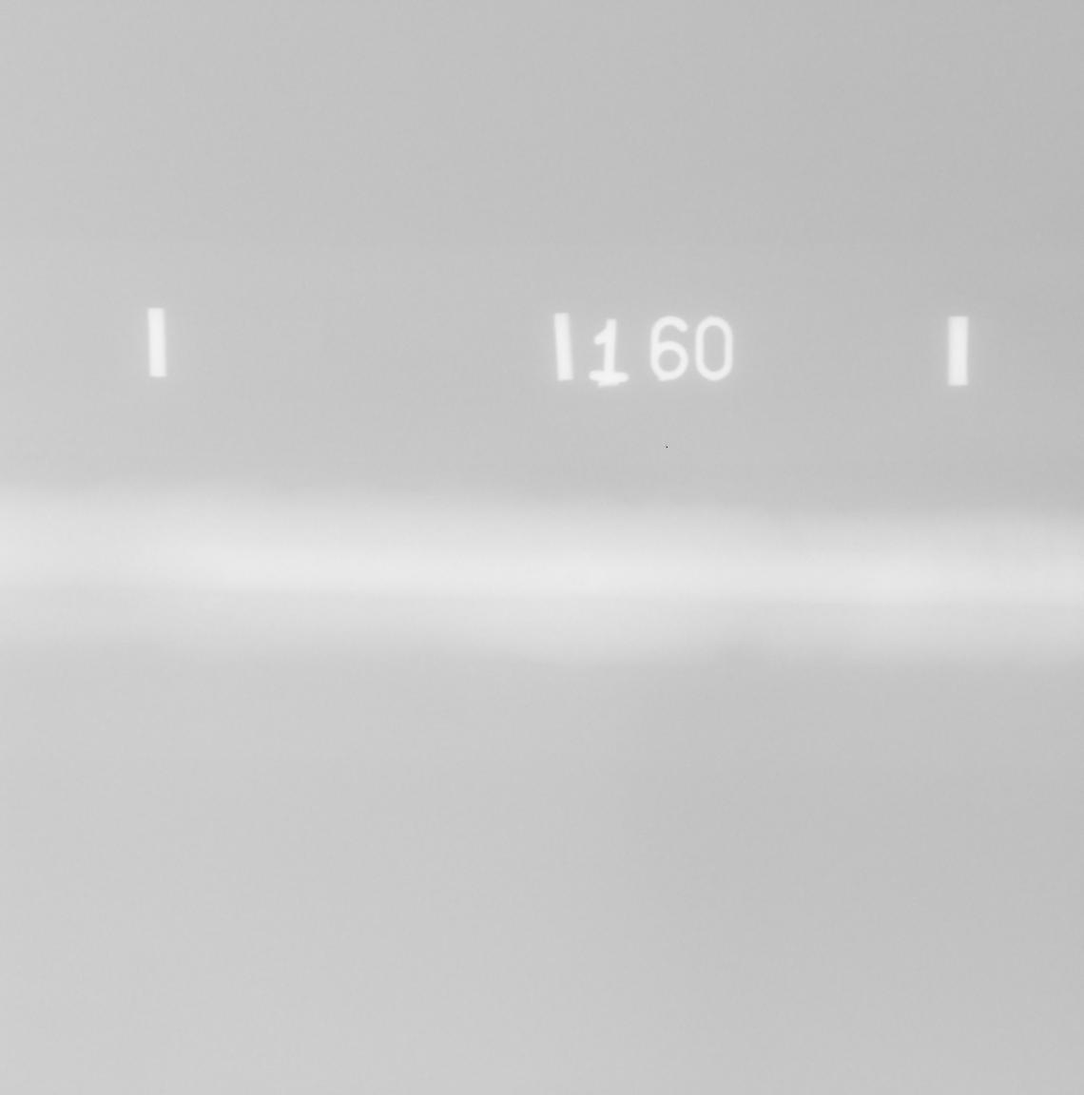Pore/Porosity: (579, 582, 583, 586)
